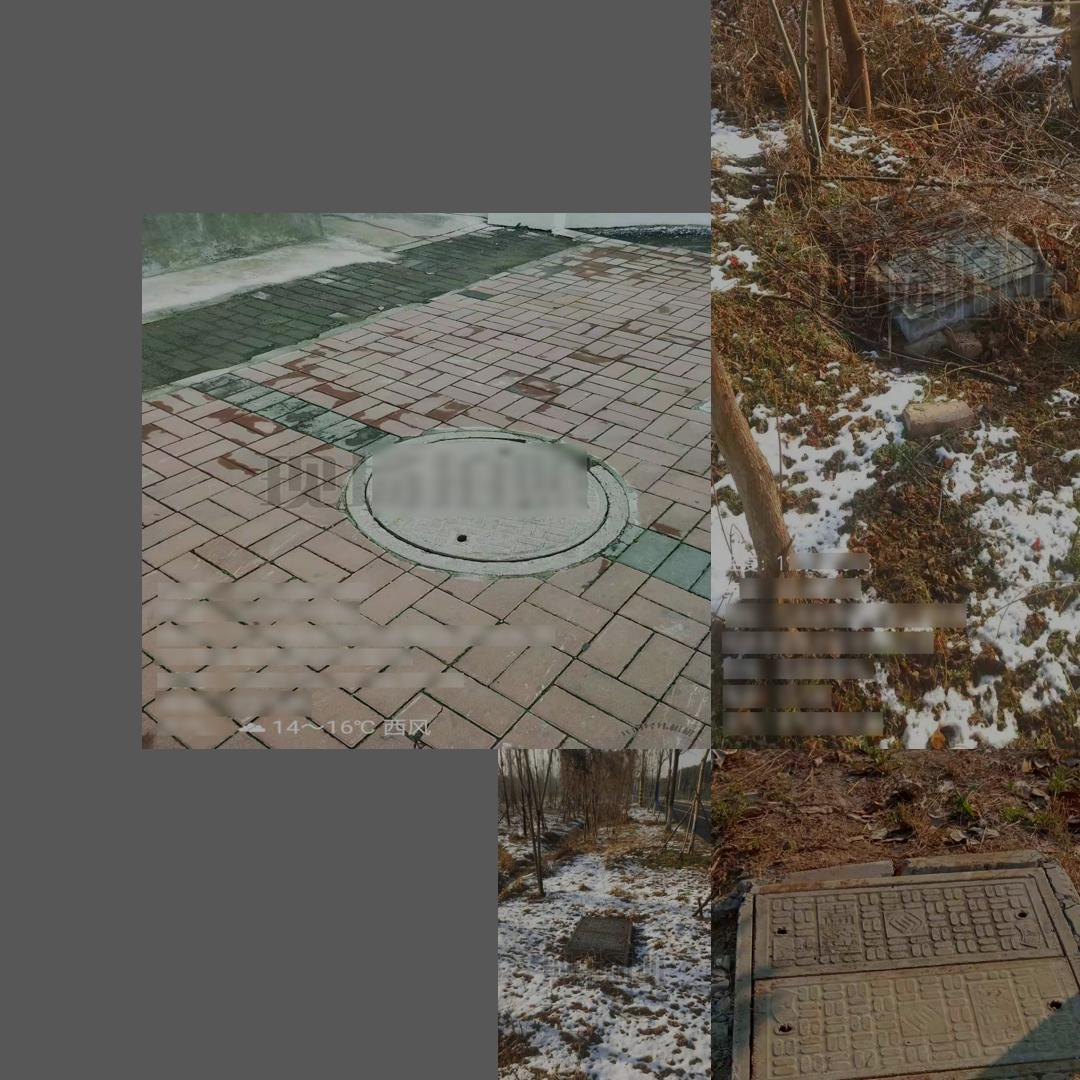circle: (717, 851, 1080, 1080), (340, 430, 633, 580), (821, 176, 1056, 349), (559, 915, 635, 969)
